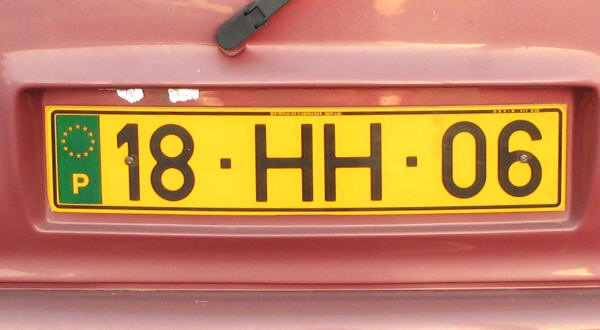license_plate: (43, 104, 569, 216)
